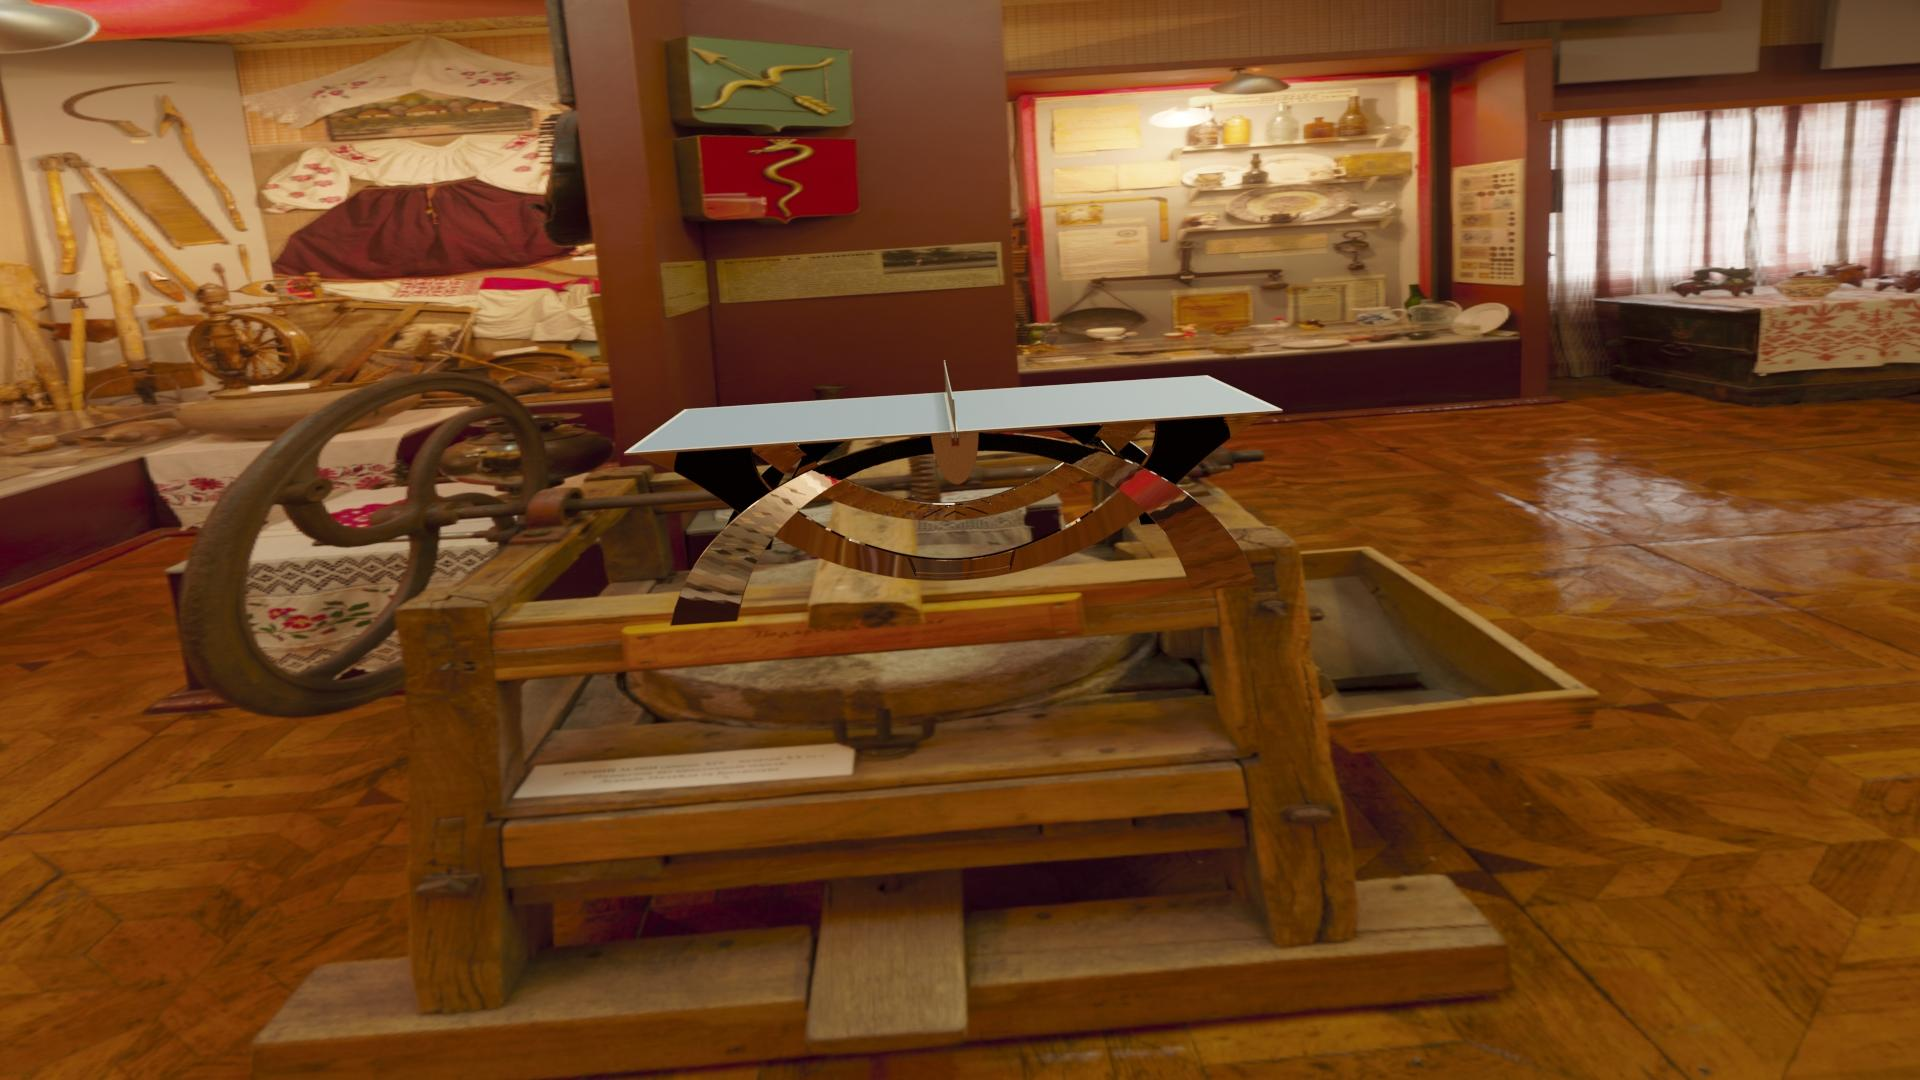table: (630, 376, 1276, 452)
